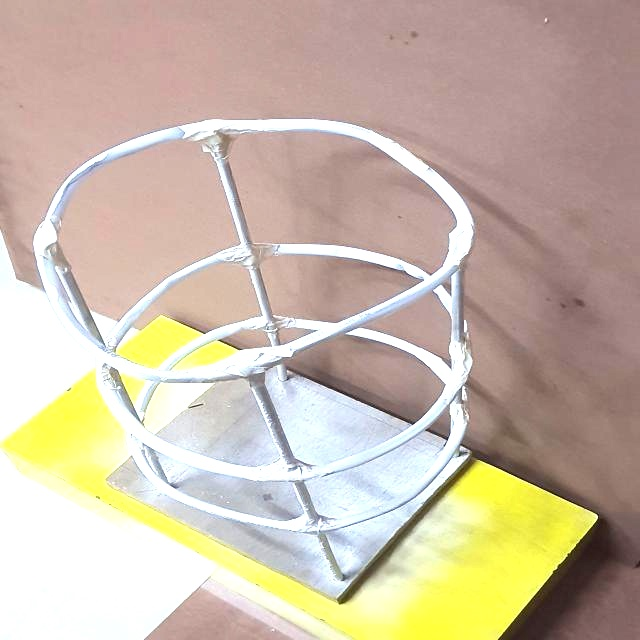silo: (0, 109, 462, 594)
